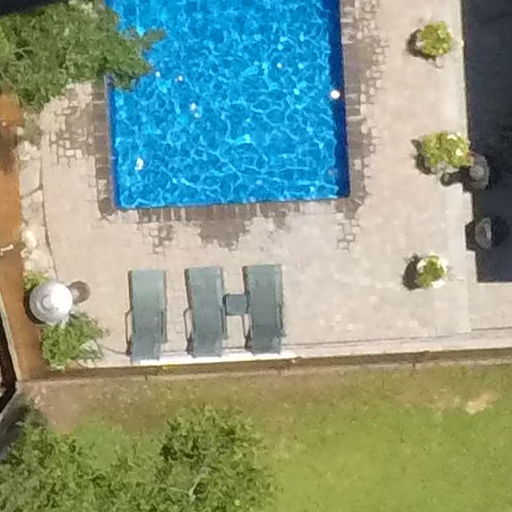flower pot: (408, 128, 474, 177), (397, 247, 453, 292), (408, 19, 457, 66)
pool: (82, 1, 379, 222)
